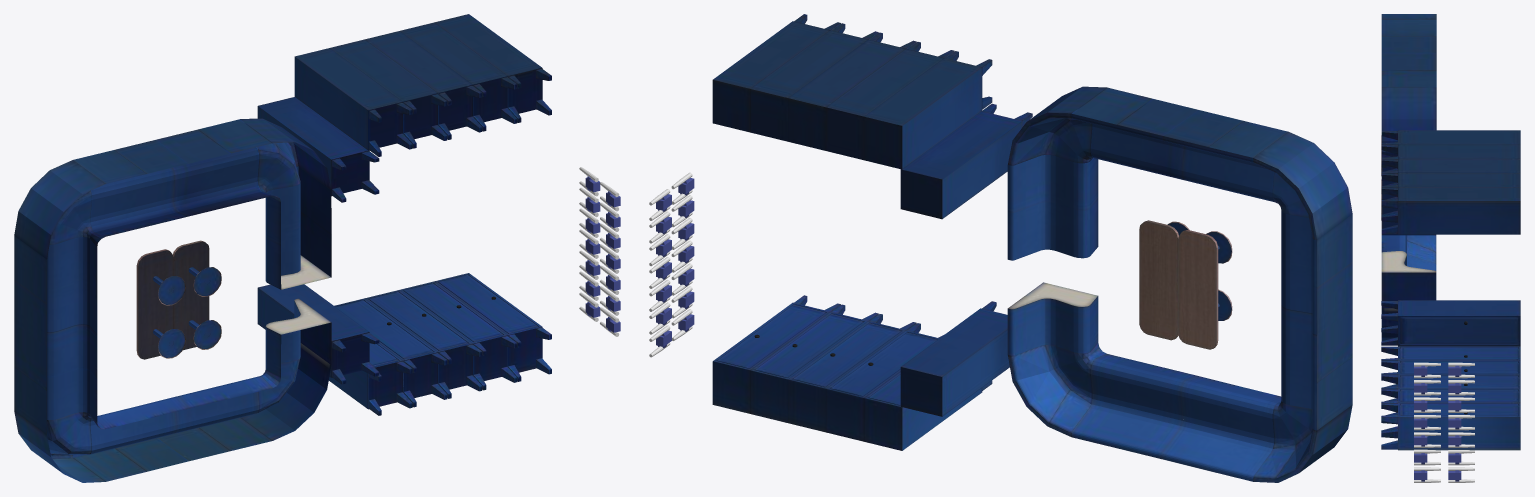
The model's file is cvfFrIlotArriereIntPont3Vestiaire.fbx.
3 renders of one model, left to right at view 1: azimuth 30°, elevation 25°; view 2: azimuth 150°, elevation 25°; view 3: azimuth 270°, elevation 25°, orthographic. The views are drawn at different scales.
Parts seen in each view (by area): view 1: ShapeIndexedFaceSet, ShapeIndexedFaceSet_001, ShapeIndexedFaceSet_002; view 2: ShapeIndexedFaceSet, ShapeIndexedFaceSet_002, ShapeIndexedFaceSet_001; view 3: ShapeIndexedFaceSet, ShapeIndexedFaceSet_002, ShapeIndexedFaceSet_001.
Part boxes in pixels (box(x1,y1,x2,y2)): ShapeIndexedFaceSet: box(14, 14, 551, 482); ShapeIndexedFaceSet_001: box(585, 176, 620, 332); ShapeIndexedFaceSet_002: box(579, 167, 619, 336); ShapeIndexedFaceSet: box(712, 14, 1352, 482); ShapeIndexedFaceSet_002: box(649, 172, 692, 357); ShapeIndexedFaceSet_001: box(656, 178, 694, 348); ShapeIndexedFaceSet: box(1381, 14, 1520, 450); ShapeIndexedFaceSet_002: box(1414, 362, 1474, 482); ShapeIndexedFaceSet_001: box(1414, 365, 1461, 481).
Bounding box in the file's own units: 8.5 × 4.1 × 2.08.
